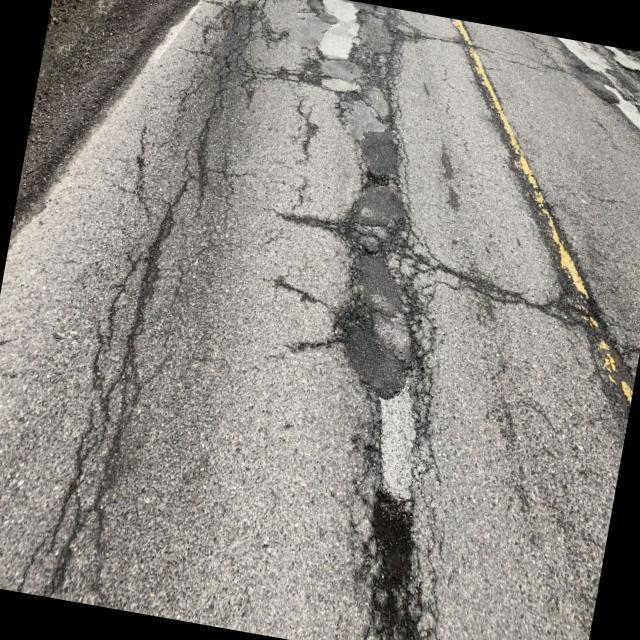Potholes: (356, 490, 430, 640), (347, 154, 395, 197)
